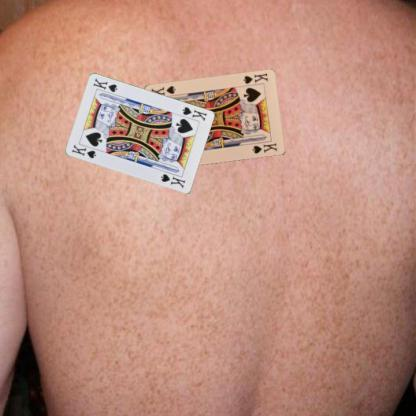Ks: (69, 142, 98, 160), (179, 104, 208, 122), (240, 71, 269, 85)
